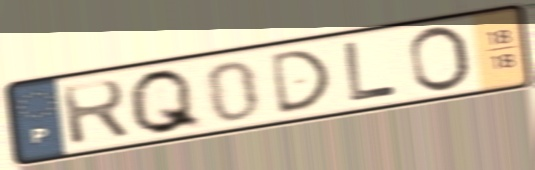0: (202, 58, 267, 124)
D: (266, 46, 334, 117)
L: (341, 38, 401, 106)
O: (406, 23, 476, 96)
Q: (125, 66, 208, 138)
R: (56, 76, 133, 148)
